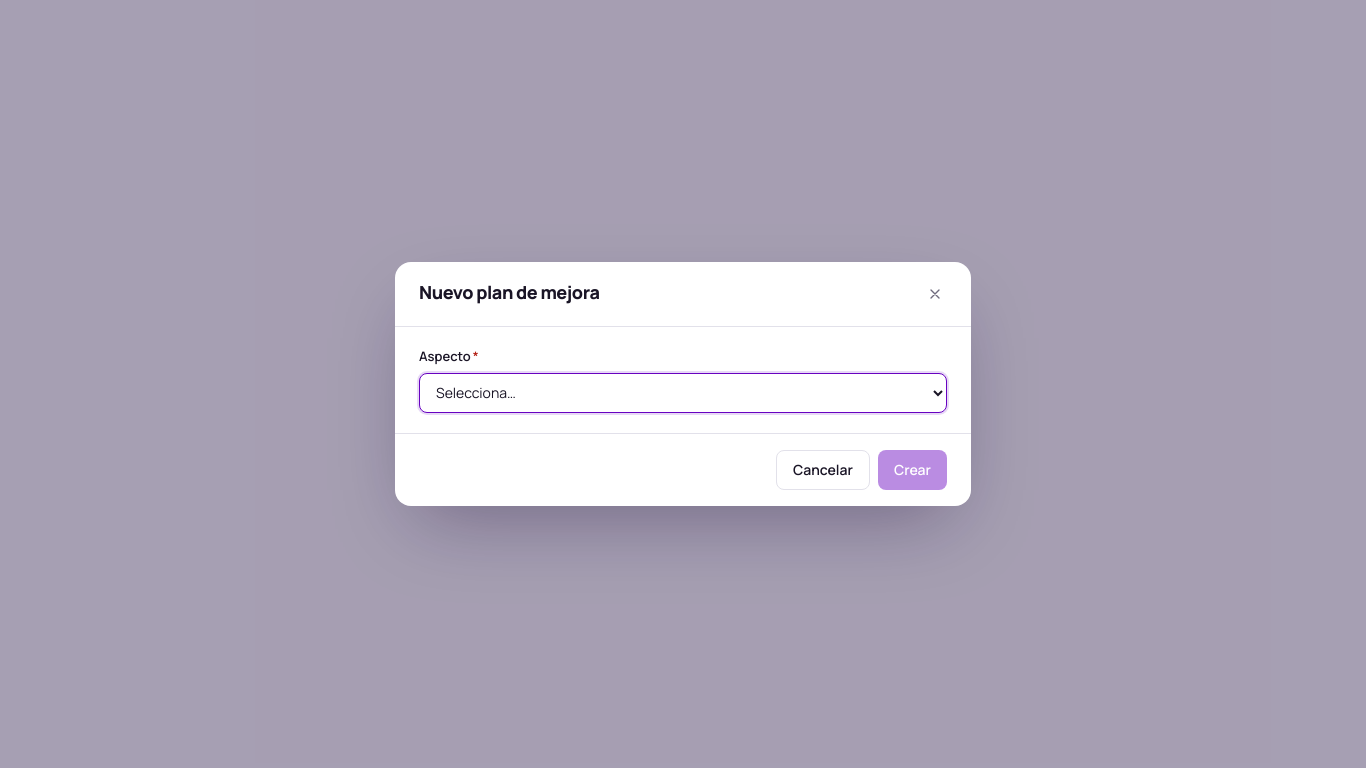
Test case: ModalNuevoPlanMejora › el aspecto Competencia no muestra el selector de Elemento genérico, sino el de plan base
This screenshot has width=1366, height=768.
Select "Competencia" in the dropdown labelled "Aspecto" at (683, 393), box x1=419 y1=373 x2=947 y2=413
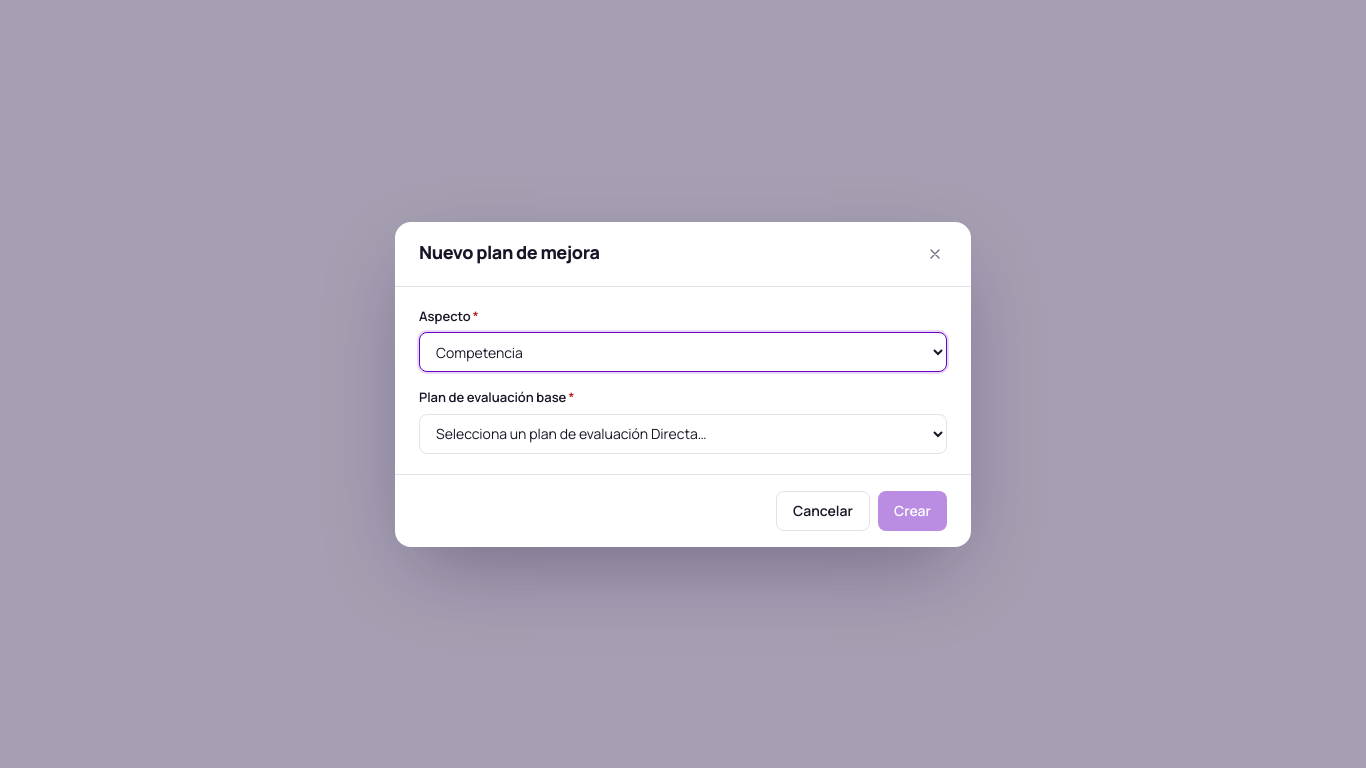
Expected: the dropdown labelled "Plan de evaluación base" is shown, x1=419 y1=414 x2=947 y2=454
